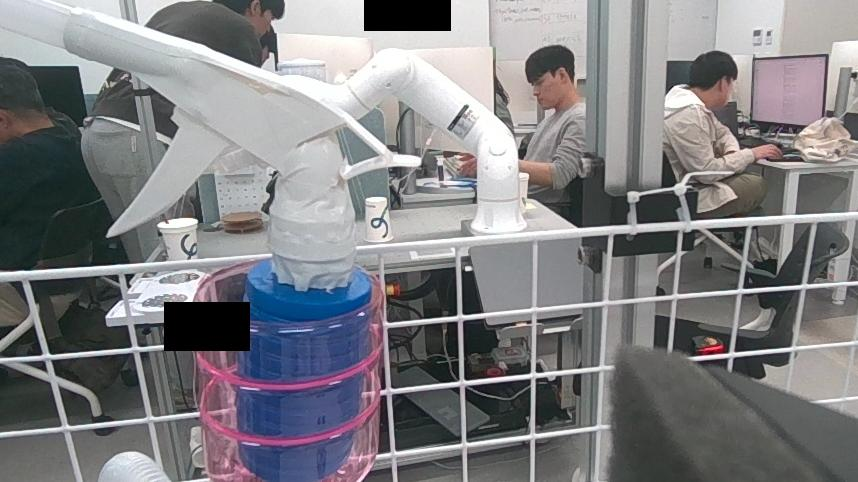Nozzle: (61, 0, 410, 482)
